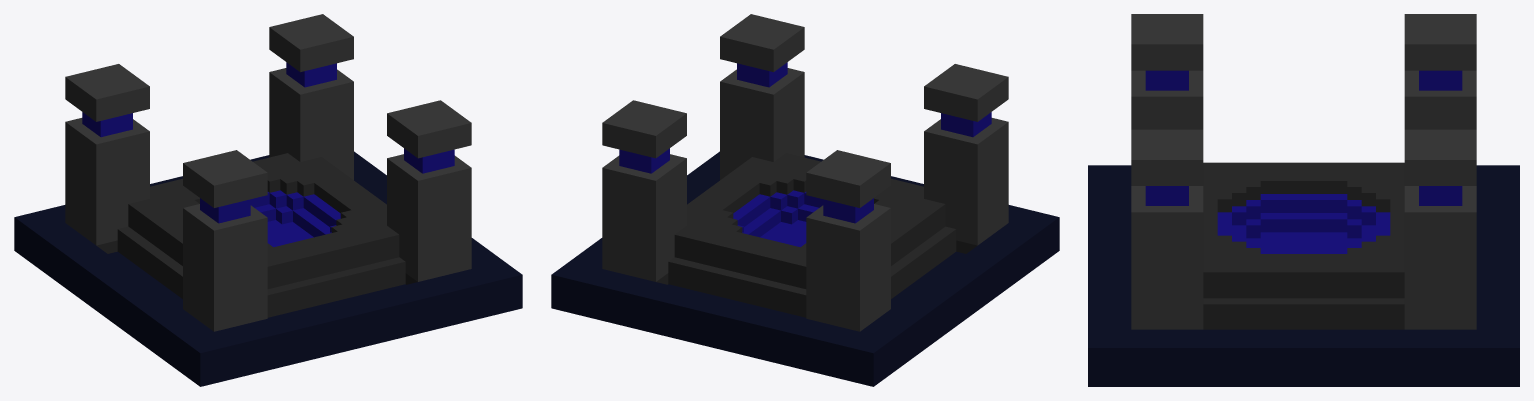
File: ItemAcceptorBlue.obj
3 renders of one model, left to right at view 1: azimuth 30°, elevation 25°; view 2: azimuth 150°, elevation 25°; view 3: azimuth 270°, elevation 25°, orthographic. The views are drawn at different scales.
Size of the model in its own units: 3 by 1.6 by 3.
Materials: 1 (1 with a texture image).
